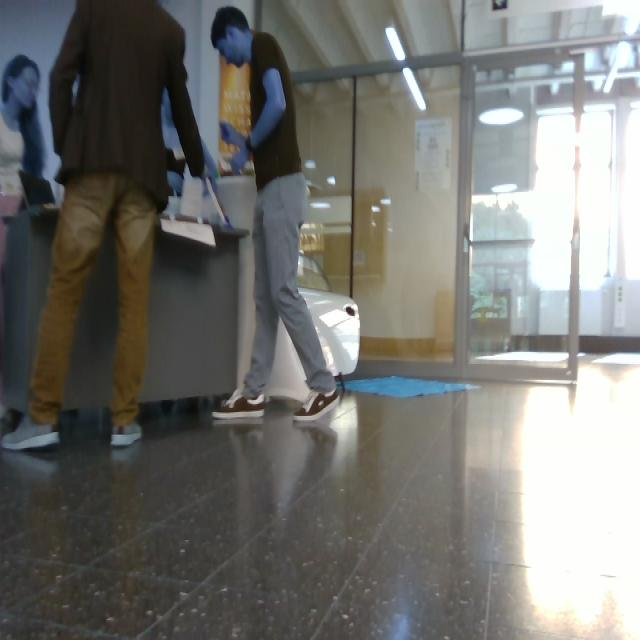door: (457, 38, 640, 382)
light bulb: (478, 89, 527, 126), (603, 41, 634, 94), (403, 68, 426, 112), (404, 68, 426, 112), (479, 108, 523, 126), (386, 26, 405, 61)
person: (4, 1, 204, 450), (212, 8, 338, 420), (1, 56, 46, 269)
tiled floor: (1, 364, 640, 640)
